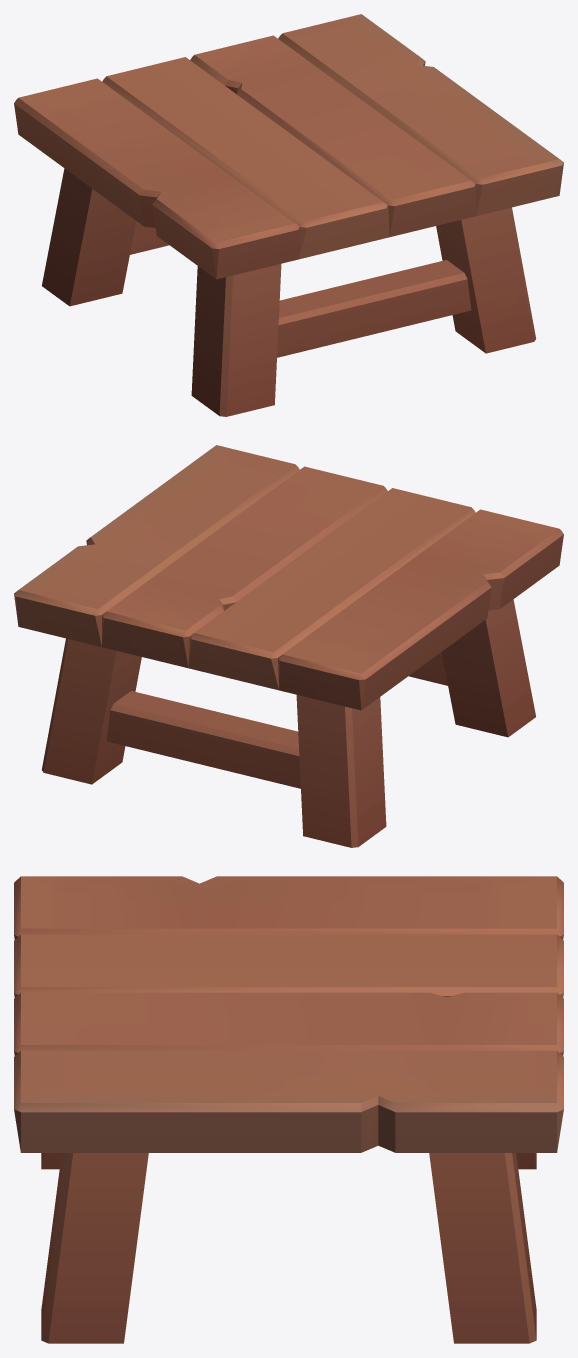
Rendered from table_medium.glb.
3 views of the same model, one above another, from view 1: azimuth 30°, elevation 25°; view 2: azimuth 150°, elevation 25°; view 3: azimuth 270°, elevation 25° (orthographic). The views are drawn at different scales.
Visible parts, largest first — view 1: table_medium; view 2: table_medium; view 3: table_medium.
Boxes of the visible parts, x1,y1,x2,y2 form: table_medium: (14, 14, 563, 416); table_medium: (14, 445, 563, 847); table_medium: (14, 876, 563, 1343).
Bounding box in the file's own units: 2 × 0.9998 × 2.
Materials: 1 (1 with a texture image).
